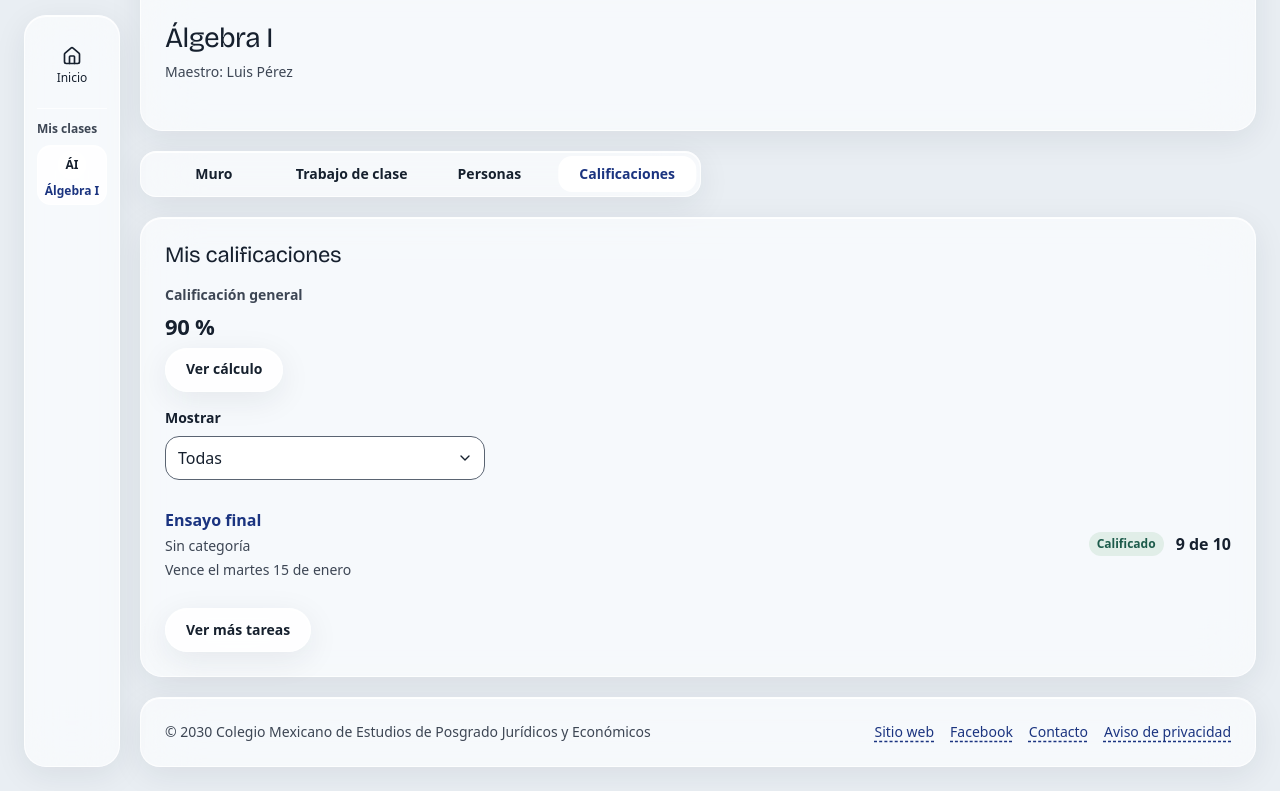
T-08: «Vuelve a abrir Calificaciones» pulsando la sección «Calificaciones» (la activa) › CAL-T-229: «Mis calificaciones» con el texto del cursor de «Ver más tareas»: pulsar la sección «Calificaciones» vuelve a pedir la primera página
This screenshot has width=1280, height=791.
(page scrolled)
Expected: the link "Ensayo final" is shown, [165,509,261,531]
Click the button "Ver más tareas": coordinates (238, 630) [165,608,311,652]
(page scrolled)
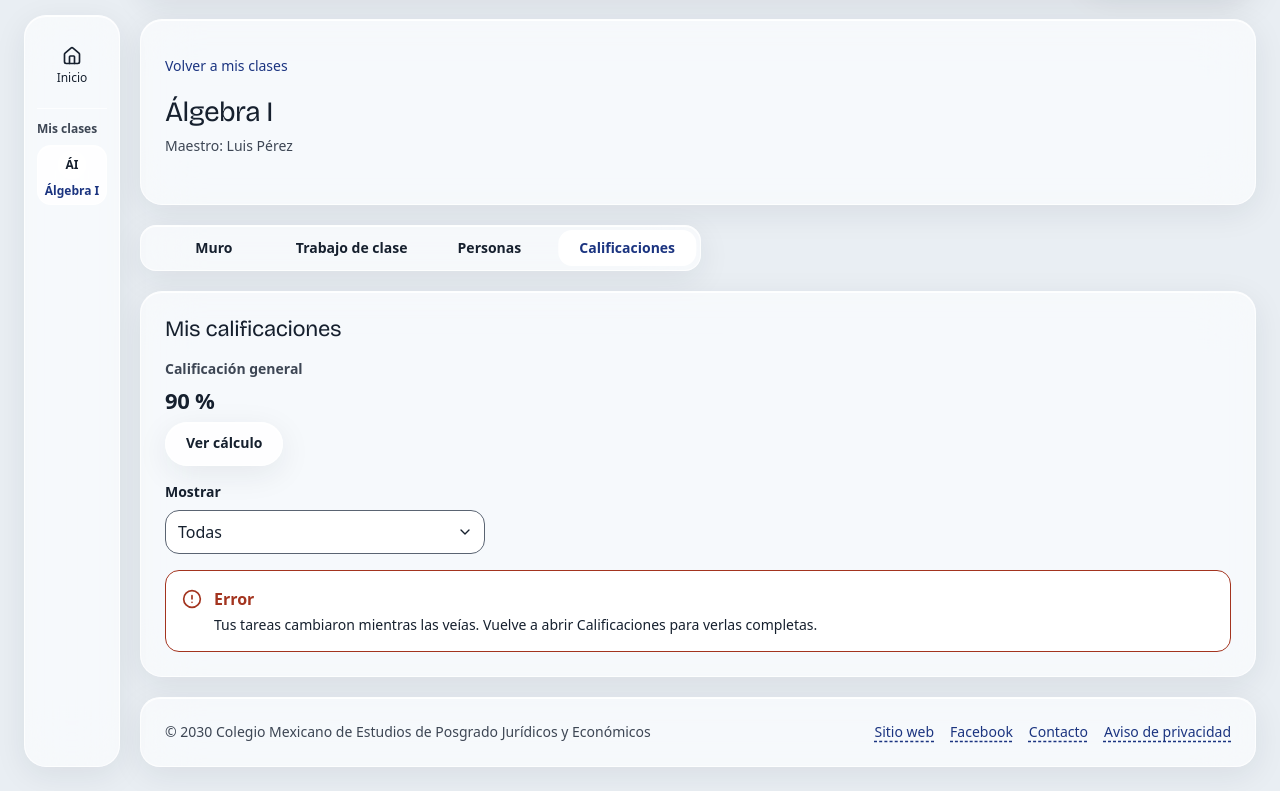
Expected: the text "Tus tareas cambiaron mientras las veías. Vuelve a abrir Calificaciones para verlas completas." is shown, [214,615,817,634]
Click the link "Calificaciones": coordinates (627, 248) [579,238,675,257]
(page scrolled)
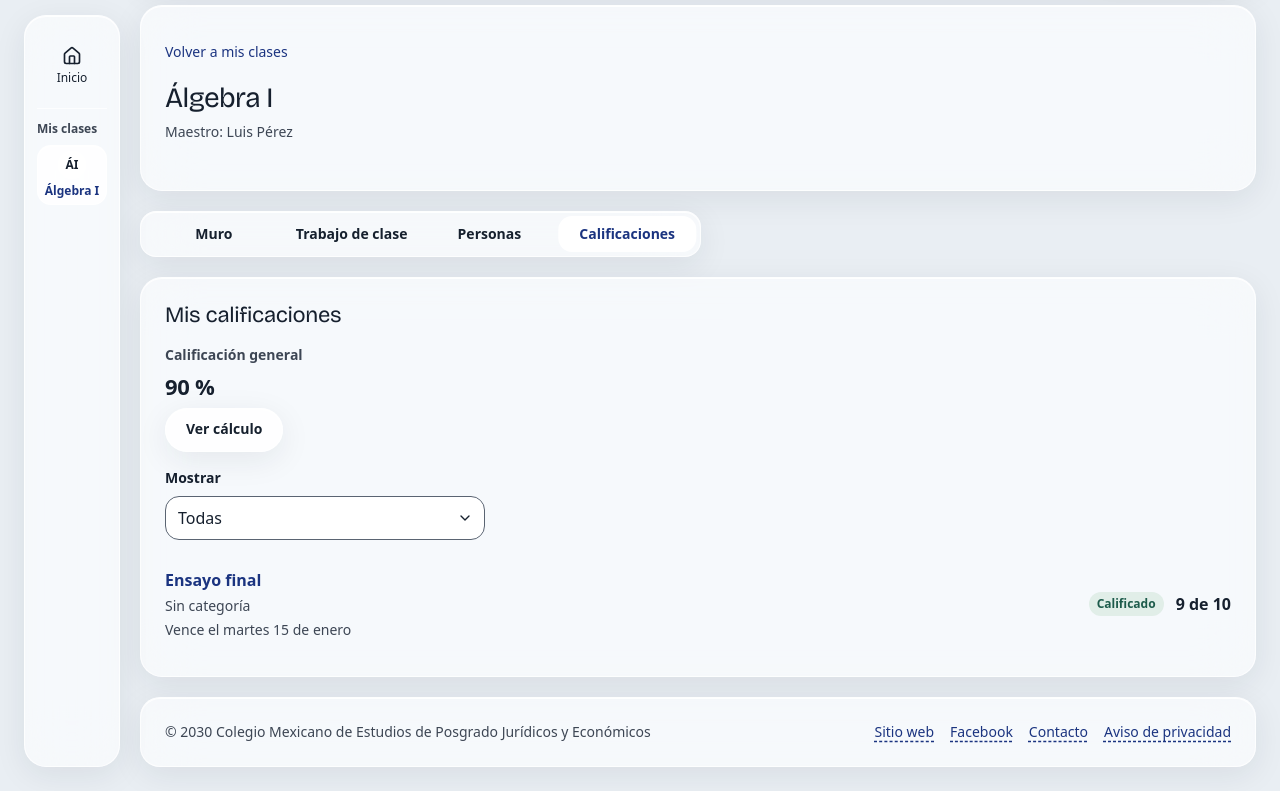
Expected: the button "Ver más tareas" is not shown
Expected: the link "Ensayo final" is shown, [165,569,261,591]
Expected: the text "Tus tareas cambiaron mientras las veías. Vuelve a abrir Calificaciones para verlas completas." is gone
